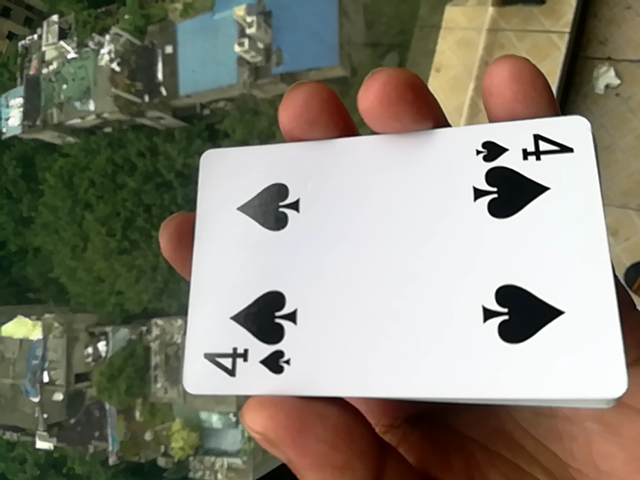ht 4: (171, 123, 627, 408)
